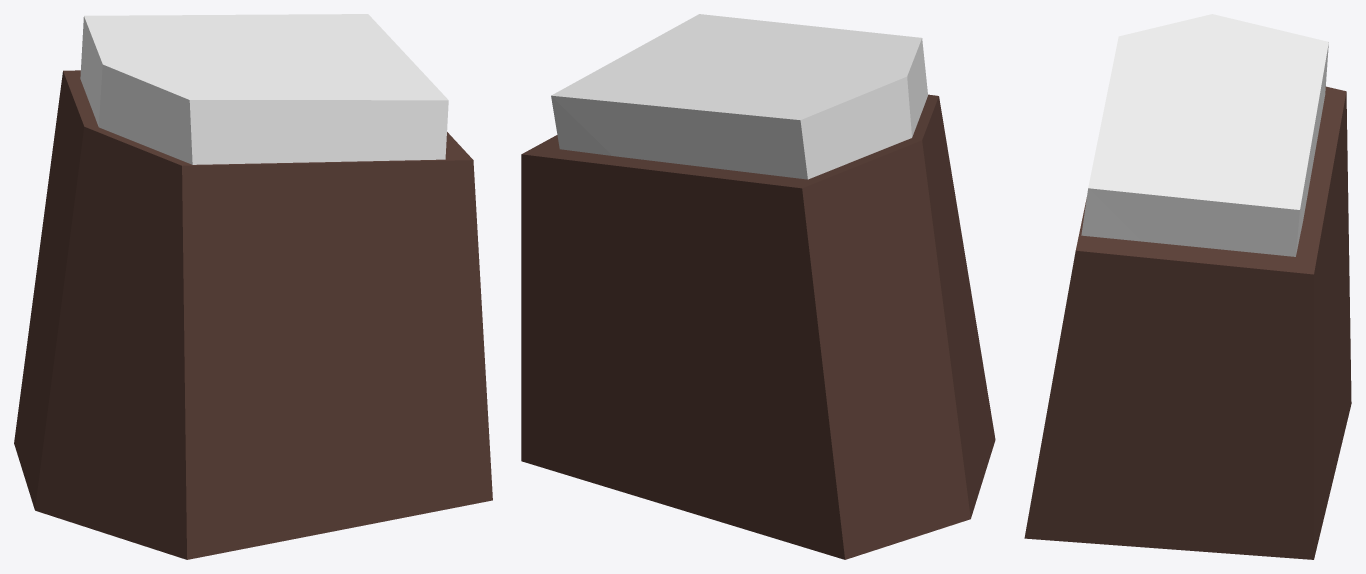
The model's file is snow_rock_016.fbx.
3 renders of one model, left to right at view 1: azimuth 30°, elevation 25°; view 2: azimuth 150°, elevation 25°; view 3: azimuth 270°, elevation 25°, orthographic. The views are drawn at different scales.
Parts seen in each view (by area): view 1: snow_rock_016; view 2: snow_rock_016; view 3: snow_rock_016.
Part boxes in pixels (x1=…): snow_rock_016: x1=14, y1=14, x2=492, y2=559; snow_rock_016: x1=521, y1=14, x2=995, y2=559; snow_rock_016: x1=1024, y1=14, x2=1351, y2=559.
Size of the model in its own units: 155 by 119 by 159.
